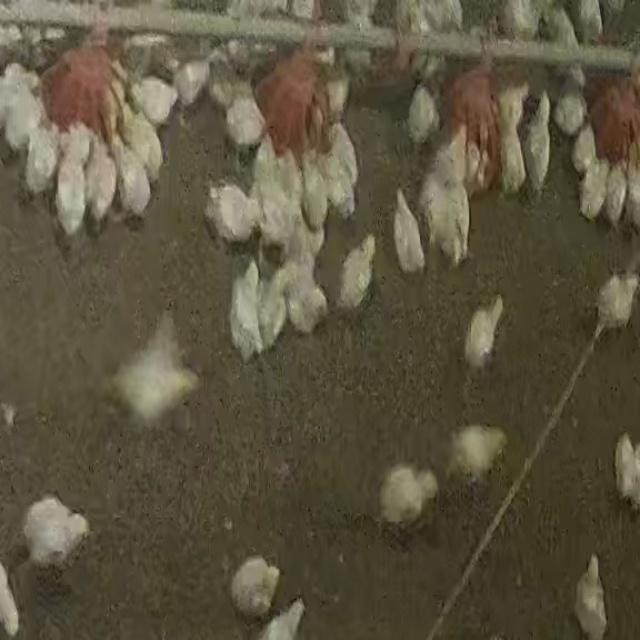chicken: (125, 316, 191, 425), (420, 157, 470, 270), (20, 494, 90, 568), (250, 138, 292, 245), (1, 67, 44, 155), (202, 179, 257, 247), (447, 424, 508, 481), (54, 138, 89, 235), (375, 467, 434, 523), (229, 556, 282, 618), (464, 296, 507, 372), (285, 251, 325, 332), (123, 106, 165, 180), (522, 93, 552, 196), (85, 135, 118, 227), (232, 259, 263, 356), (328, 121, 361, 212), (550, 64, 588, 139), (393, 192, 427, 275), (596, 272, 640, 336), (131, 71, 181, 127), (575, 553, 608, 636), (224, 88, 268, 150), (117, 142, 152, 219), (300, 148, 331, 234), (337, 234, 372, 308), (498, 112, 528, 195), (439, 126, 471, 200), (257, 264, 285, 348), (206, 65, 252, 114), (293, 196, 323, 270), (252, 598, 304, 640), (577, 148, 607, 220), (270, 251, 305, 311), (172, 57, 212, 109), (613, 435, 640, 510), (406, 84, 438, 144), (28, 124, 58, 188), (61, 122, 94, 177), (603, 162, 628, 224), (571, 119, 597, 178), (622, 171, 640, 231)
